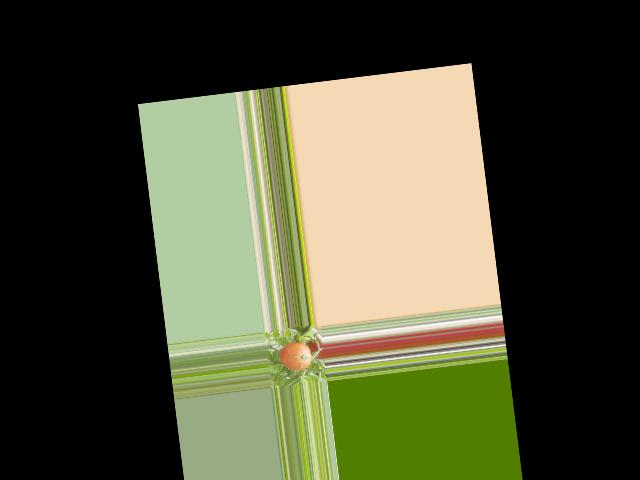tomato: (279, 341, 313, 372)
